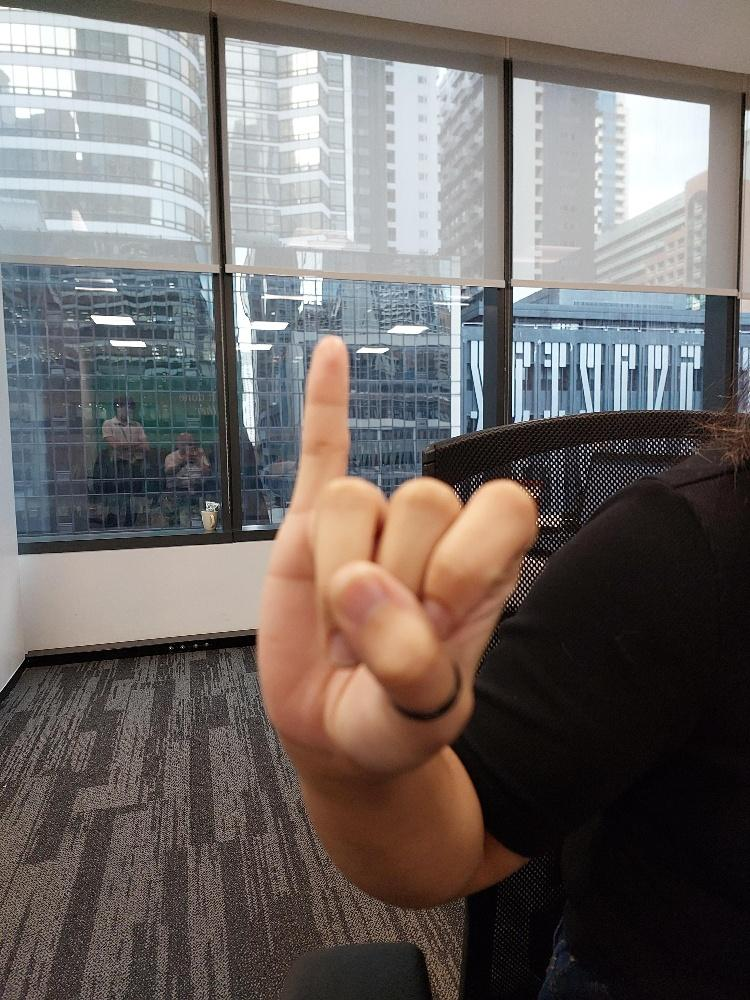i: (253, 331, 539, 773)
